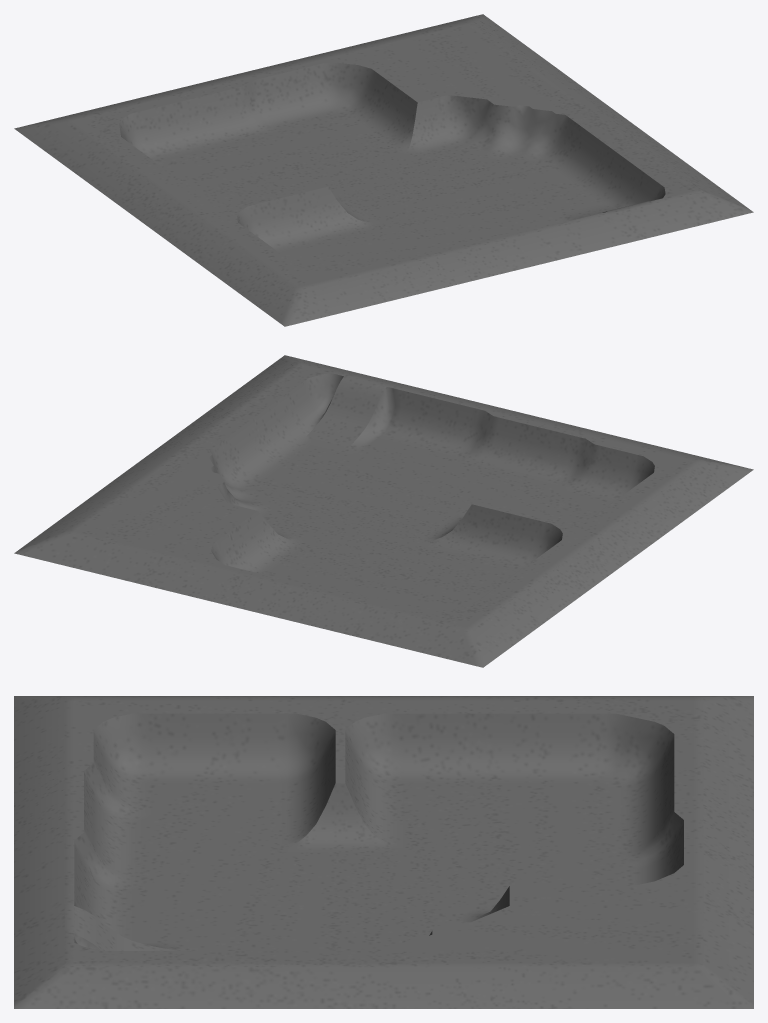
File: skatepark 2.fbx
3 views of the same model, one above another, from view 1: azimuth 30°, elevation 25°; view 2: azimuth 150°, elevation 25°; view 3: azimuth 270°, elevation 25° (orthographic). The views are drawn at different scales.
Parts seen in each view (by area): view 1: Plane; view 2: Plane; view 3: Plane.
Part boxes in pixels (x1,y1,x2,y2): Plane: (14,14,753,326); Plane: (14,355,753,667); Plane: (14,696,753,1008).
Bounding box in the file's own units: 23.17 × 1.55 × 23.17.
